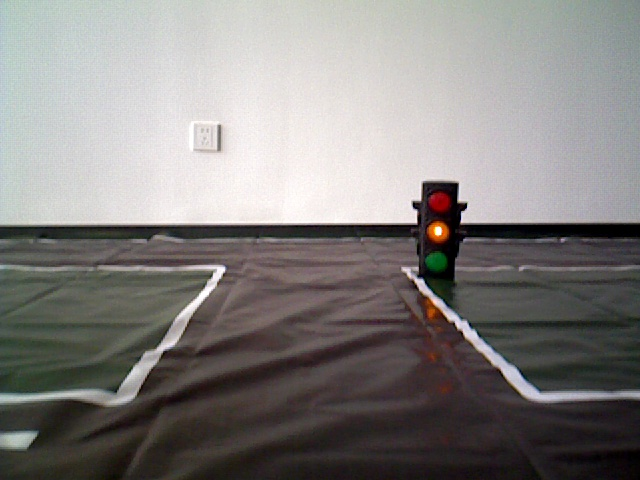yellow: (419, 178, 459, 285)
